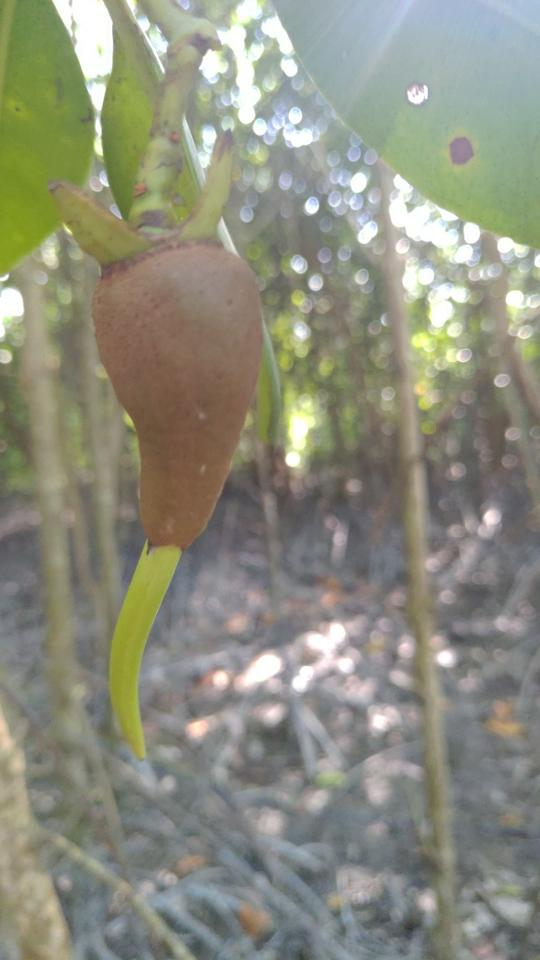mentah: (61, 112, 260, 780)
